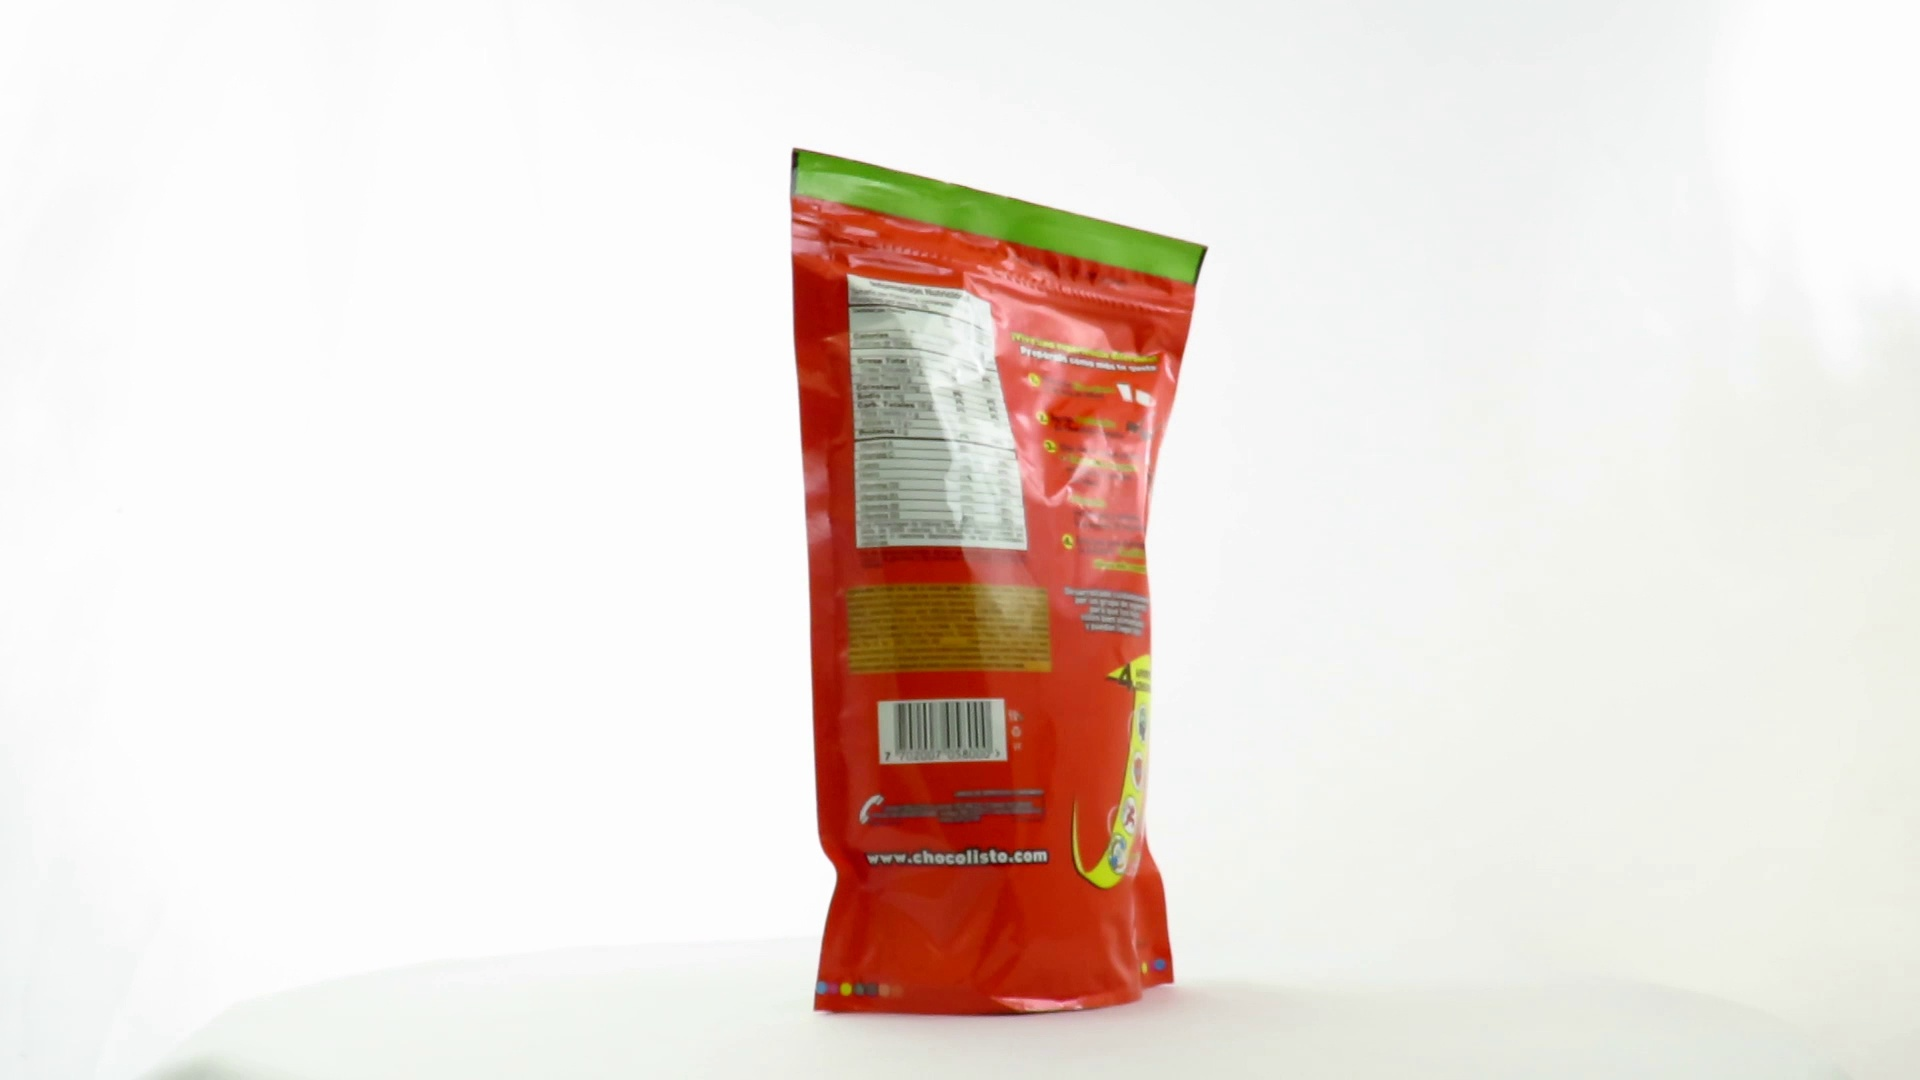COL0170102DYP50000: (785, 142, 1215, 1023)
